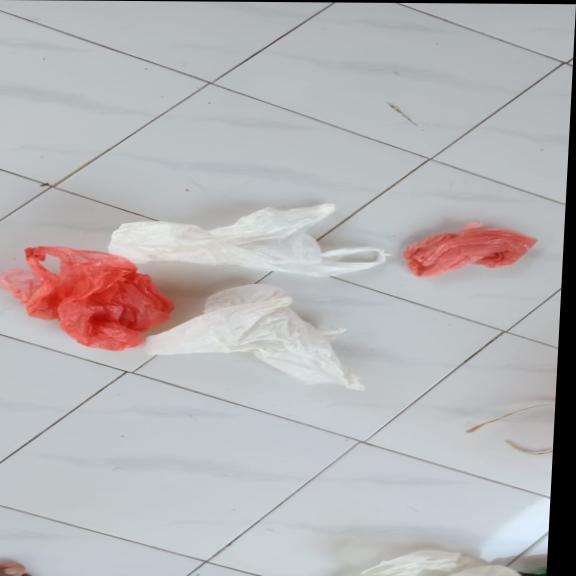Plastik: (145, 282, 377, 392), (105, 201, 393, 277), (0, 246, 176, 353), (400, 220, 537, 279), (357, 547, 525, 576)
